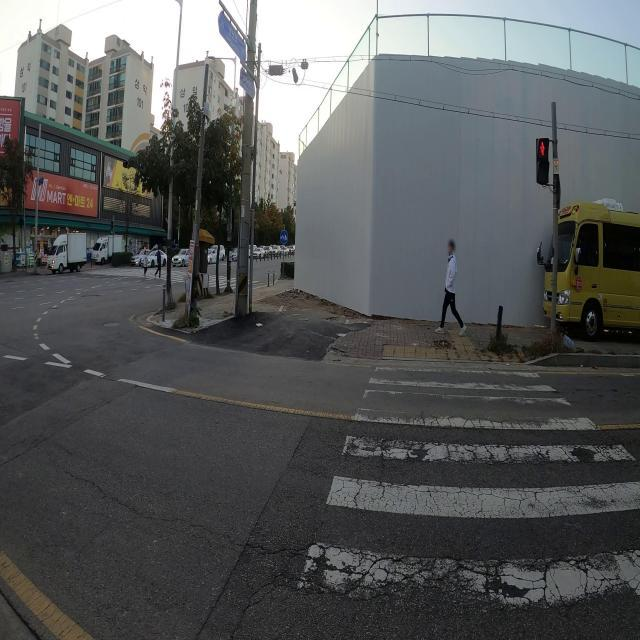crosswalk: (289, 363, 639, 639), (79, 267, 266, 292)
